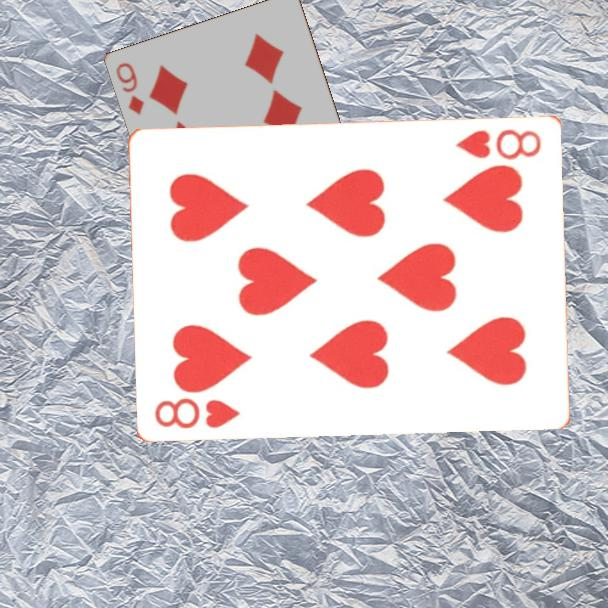d09: (113, 59, 147, 118)
h08: (151, 393, 243, 431), (453, 125, 544, 162)
